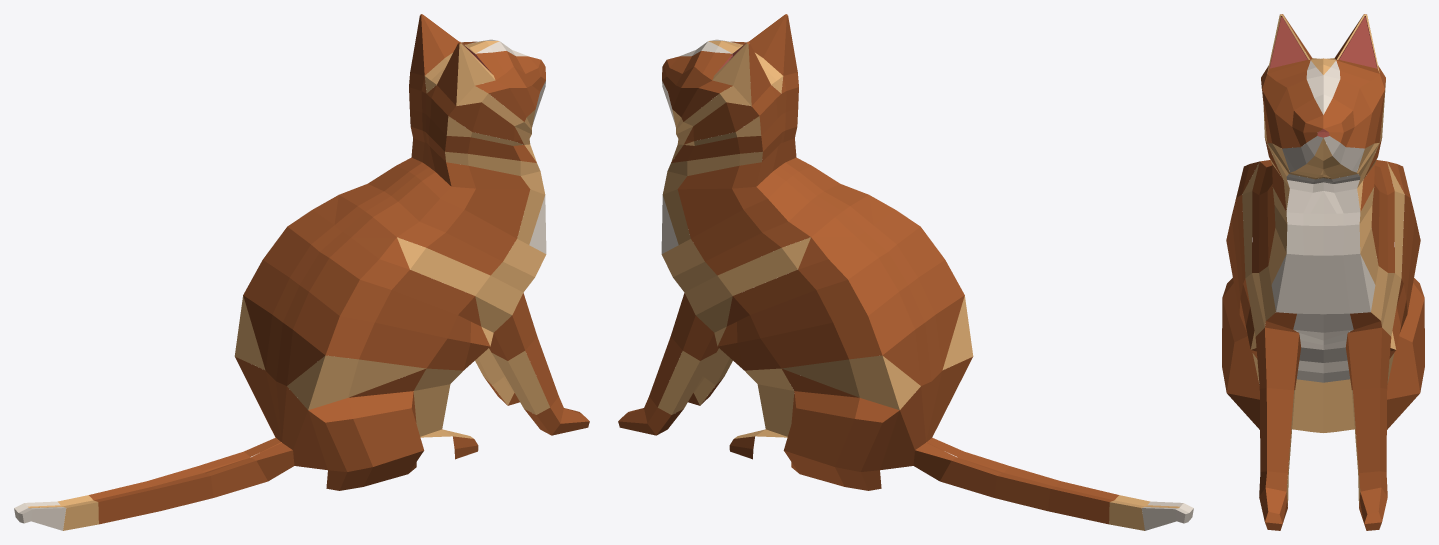
The model's file is cat-transformed.glb.
3 renders of one model, left to right at view 1: azimuth 30°, elevation 25°; view 2: azimuth 150°, elevation 25°; view 3: azimuth 270°, elevation 25°, orthographic. The views are drawn at different scales.
Parts seen in each view (by area): view 1: cat_spot, cat_body, cat_white; view 2: cat_spot, cat_body, cat_white; view 3: cat_spot, cat_white, cat_body, cat_ear.
Boxes of the visible parts, x1,y1,x2,y2 form: cat_spot: [89, 14, 589, 524]; cat_body: [28, 41, 549, 530]; cat_white: [14, 39, 546, 530]; cat_spot: [618, 14, 1118, 524]; cat_body: [658, 41, 1179, 530]; cat_white: [661, 39, 1193, 530]; cat_spot: [1222, 14, 1424, 530]; cat_white: [1271, 60, 1375, 382]; cat_body: [1242, 14, 1404, 506]; cat_ear: [1269, 16, 1377, 137].
Size of the model in its own units: 5.28 by 3.8 by 1.55.
